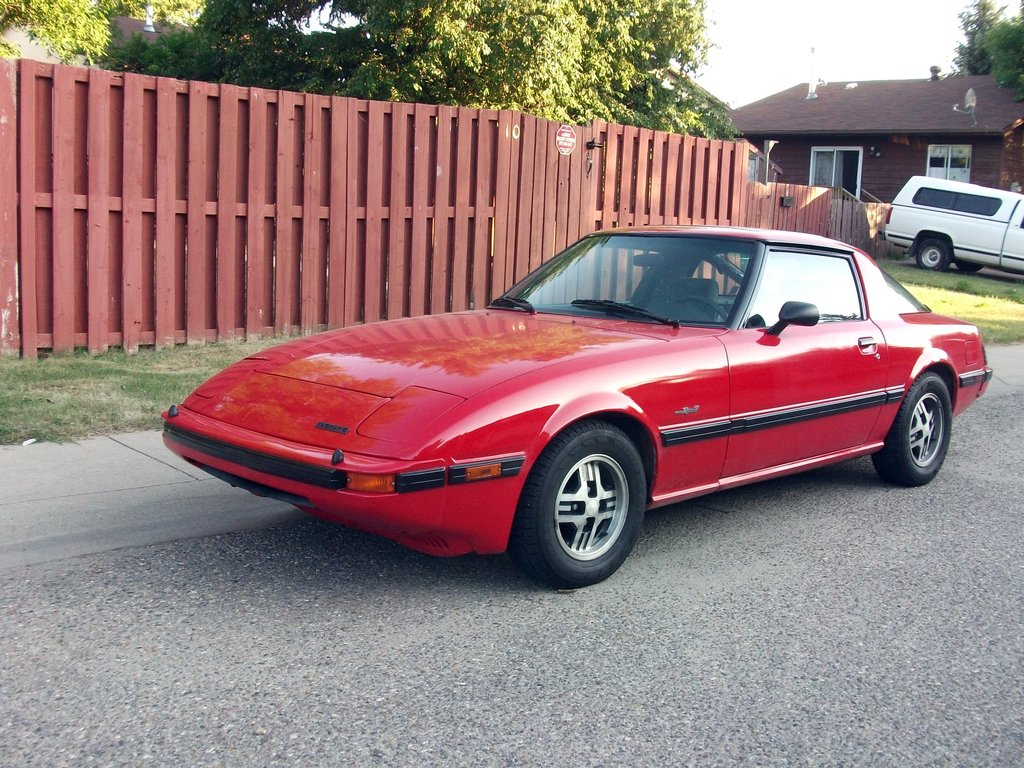Car: (158, 225, 995, 579)
